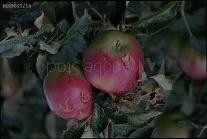rotten apple: (82, 29, 147, 94), (38, 65, 93, 123)
